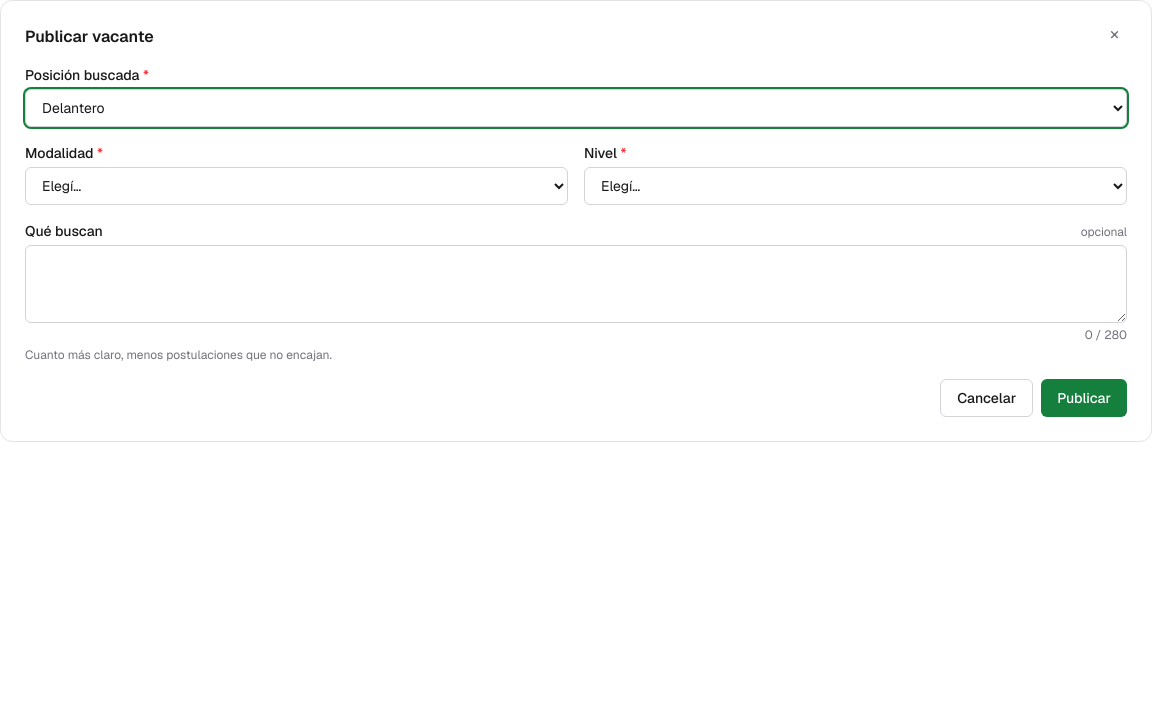
it: un duplicado se muestra en el formulario y conserva lo escrito
Select "Delantero" in the dropdown labelled "Posición buscada *": [576, 108] box [25, 89, 1127, 127]
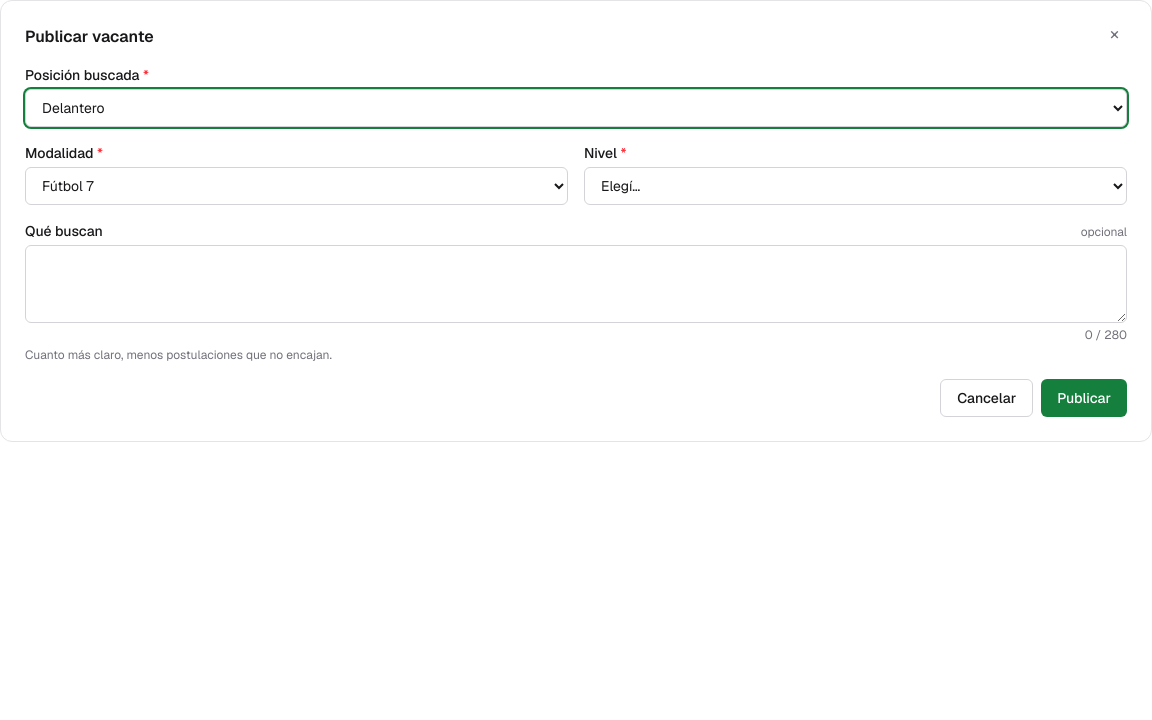
Select "Fútbol 7" in the dropdown labelled "Modalidad *": [296, 186] box [25, 167, 568, 205]
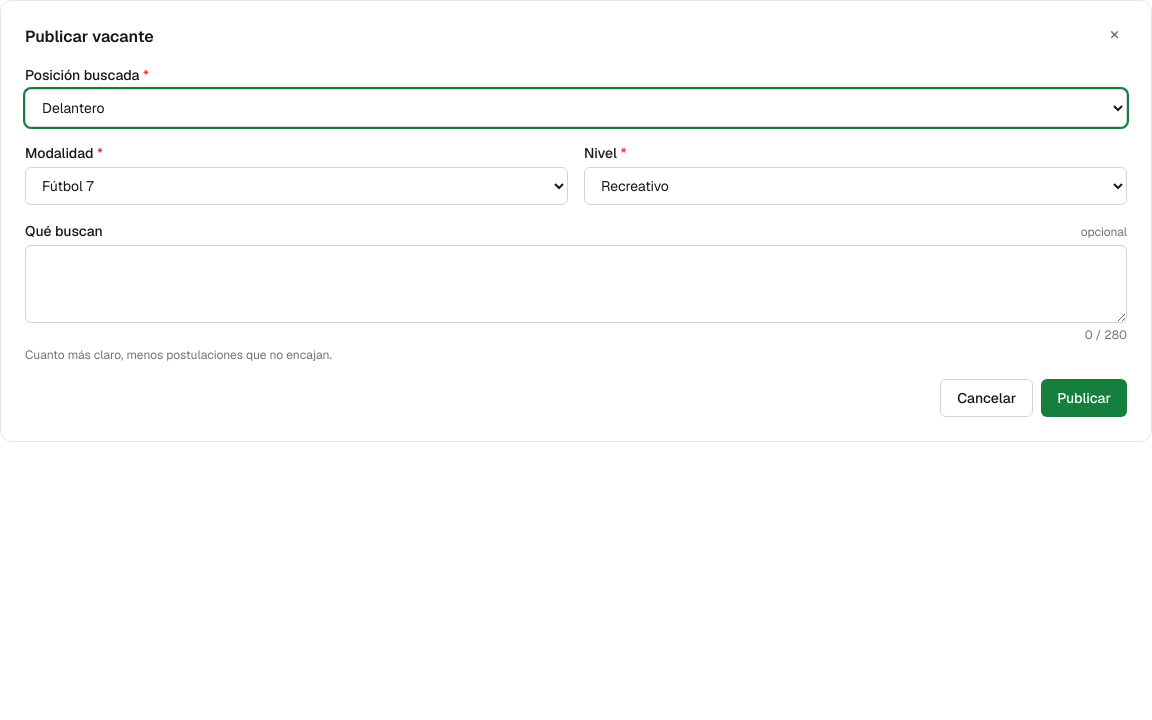
Select "Recreativo" in the dropdown labelled "Nivel *": [856, 186] box [584, 167, 1127, 205]
Click the button "Publicar": [1084, 398] box [1041, 379, 1127, 417]
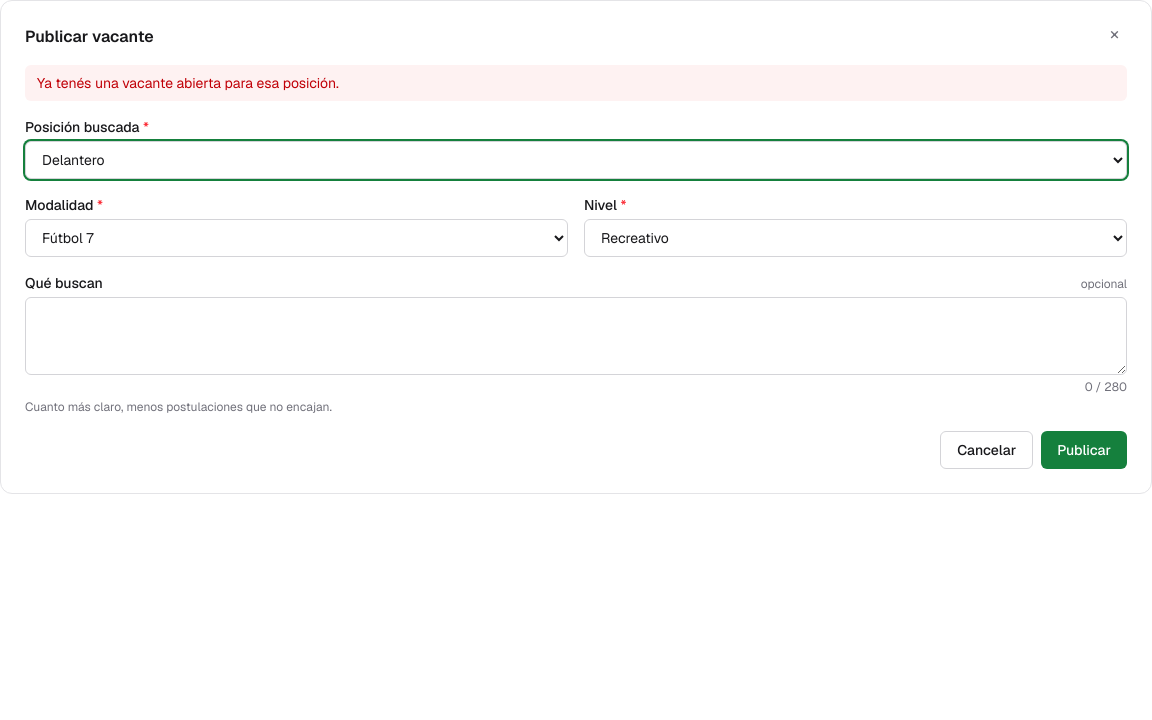
Expected: the message "Ya tenés una vacante abierta para esa posición." is shown, [25, 65, 1127, 101]
